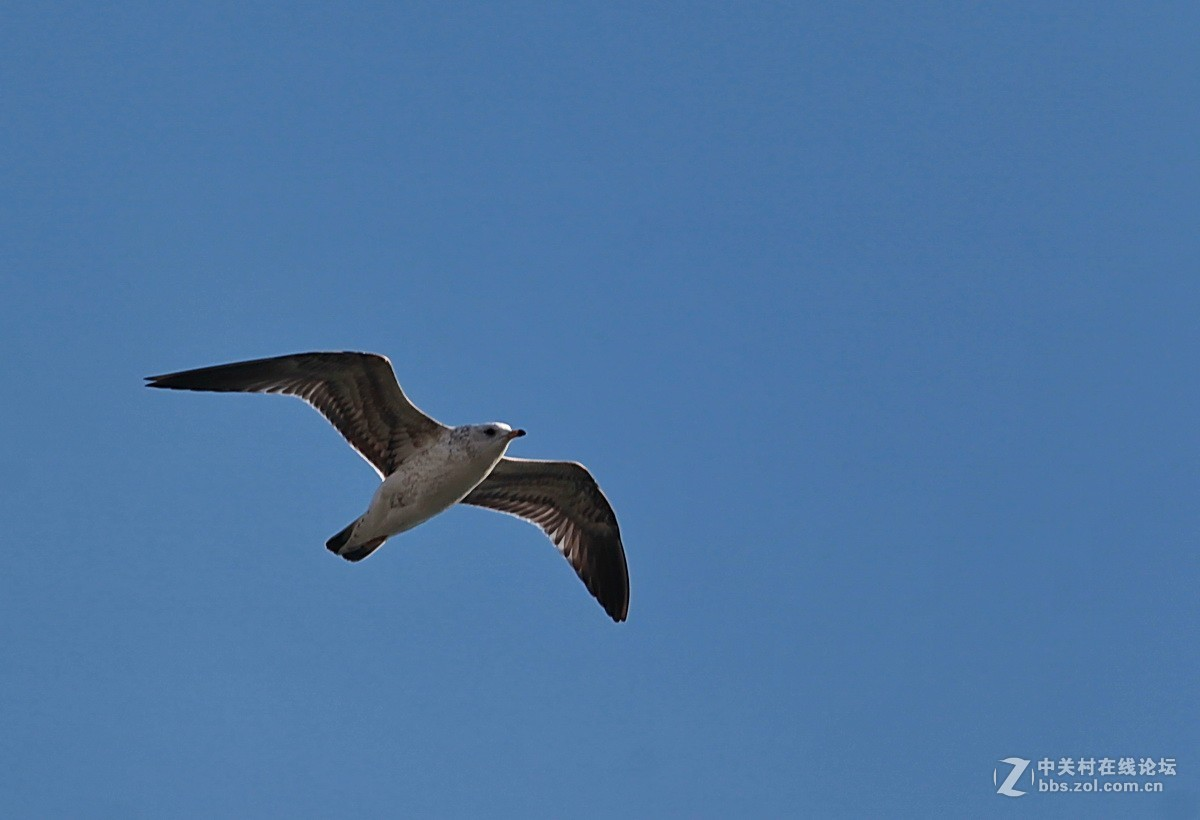bird: (141, 354, 638, 629)
